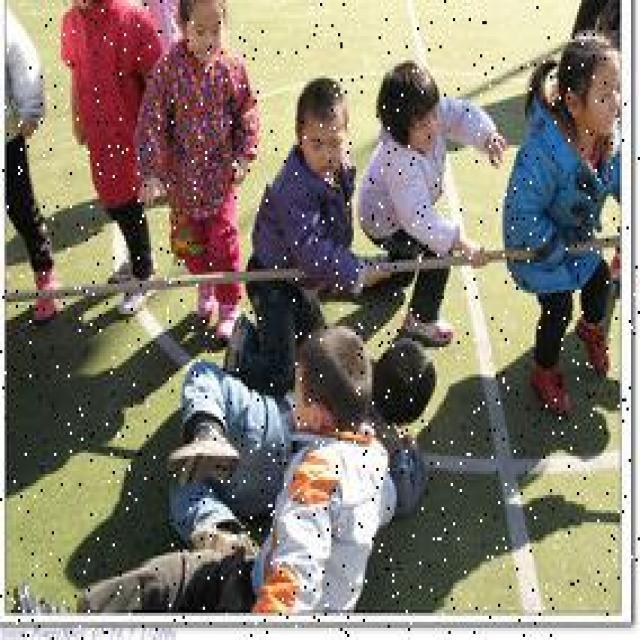fall: (162, 344, 440, 547)
